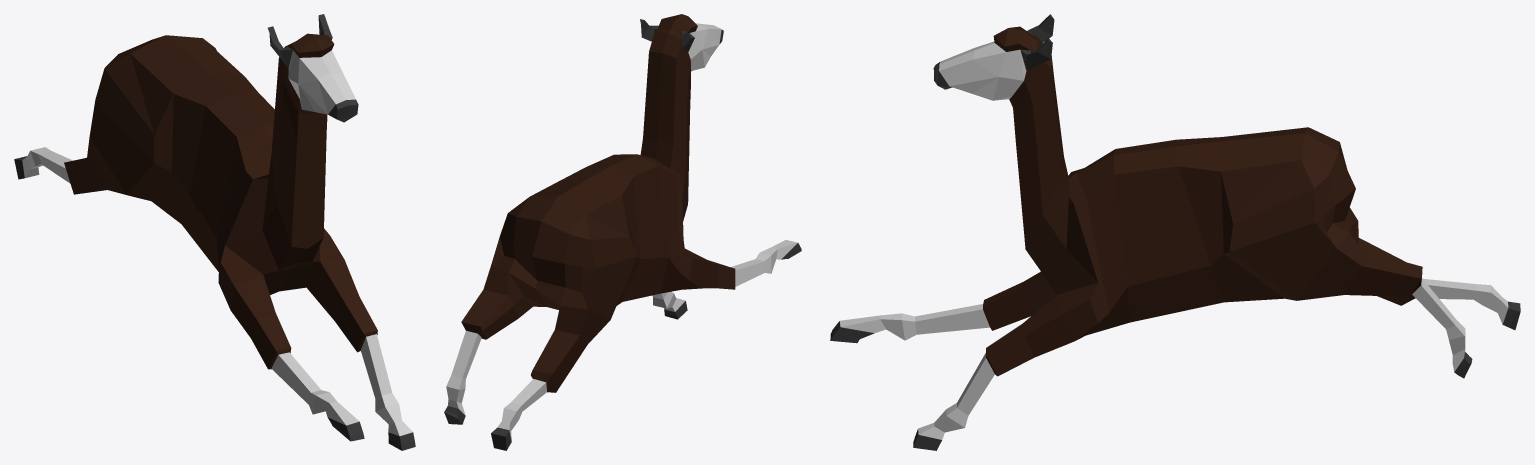
The model's file is Llama__1_000014.obj.
3 renders of one model, left to right at view 1: azimuth 30°, elevation 25°; view 2: azimuth 150°, elevation 25°; view 3: azimuth 270°, elevation 25°, orthographic. The views are drawn at different scales.
Parts seen in each view (by area): view 1: Llama_Cylinder; view 2: Llama_Cylinder; view 3: Llama_Cylinder.
Boxes of the visible parts, x1,y1,x2,y2 form: Llama_Cylinder: (14, 14, 415, 450); Llama_Cylinder: (444, 14, 801, 450); Llama_Cylinder: (830, 14, 1520, 450).
Size of the model in its own units: 1.57 by 4.9 by 7.71.
